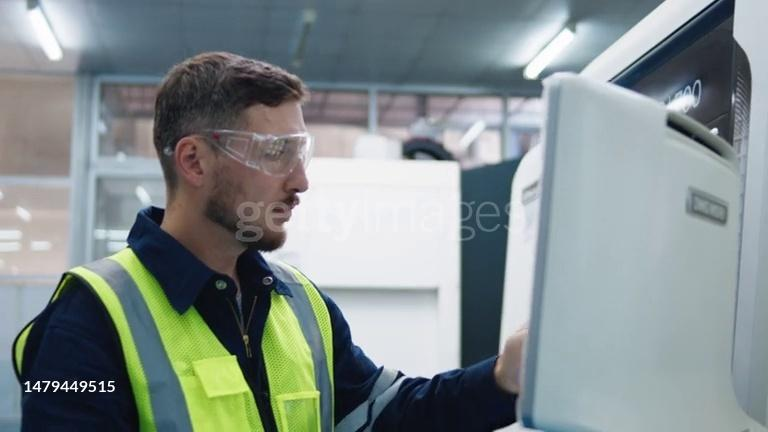person: (15, 52, 529, 427)
